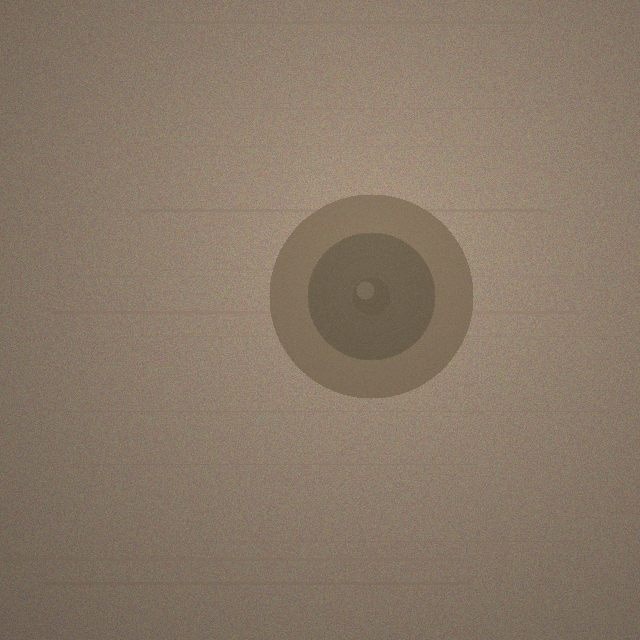good: (269, 194, 473, 398)
